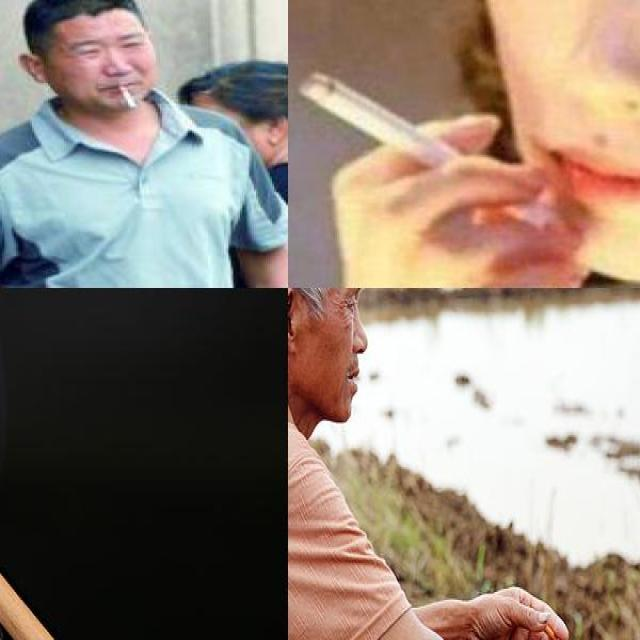smoking: (297, 72, 528, 219), (0, 515, 167, 638), (110, 81, 142, 113), (543, 622, 578, 638)
